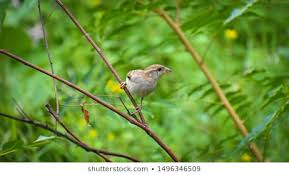home_sparrow: (116, 63, 177, 120)
